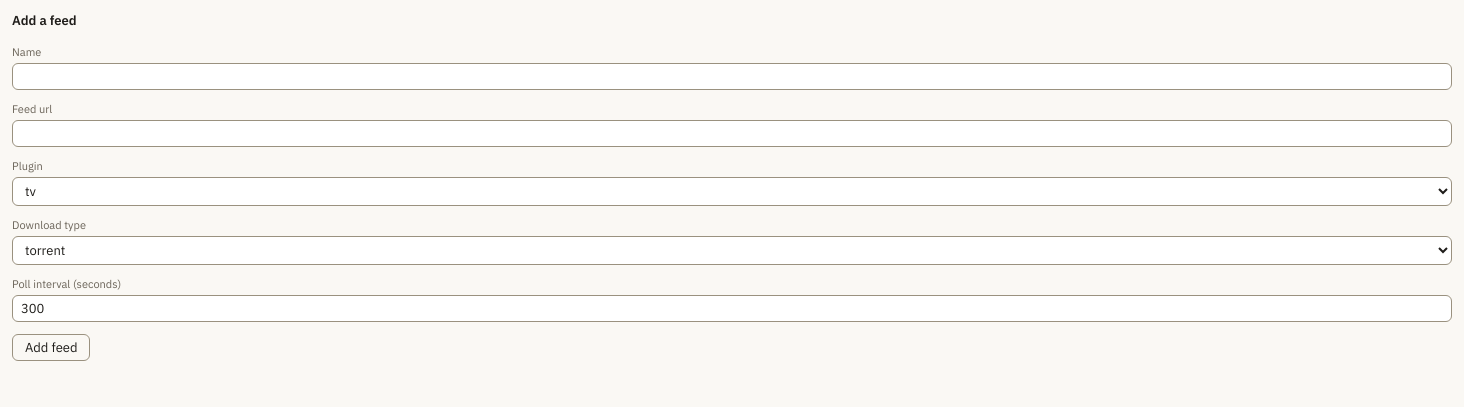
Test case: a refusal leaves what was typed in place
Type "Movies HD" into the field labelled "Name". click: x=732, y=76
box: x1=12 y1=63 x2=1452 y2=90
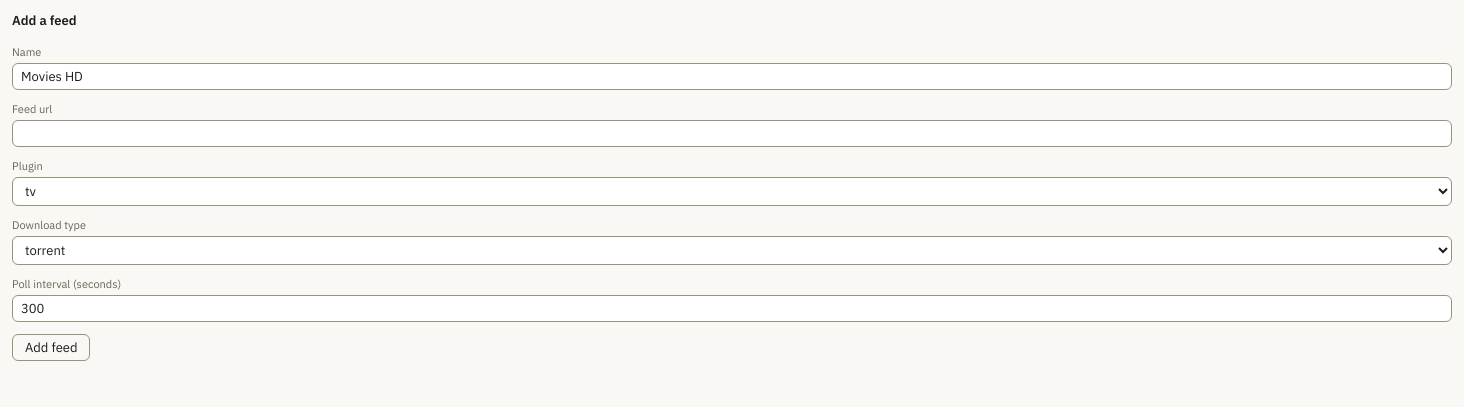
Type "https://tracker.example/rss" into the field labelled "Feed url". click: x=732, y=134
box: x1=12 y1=120 x2=1452 y2=147
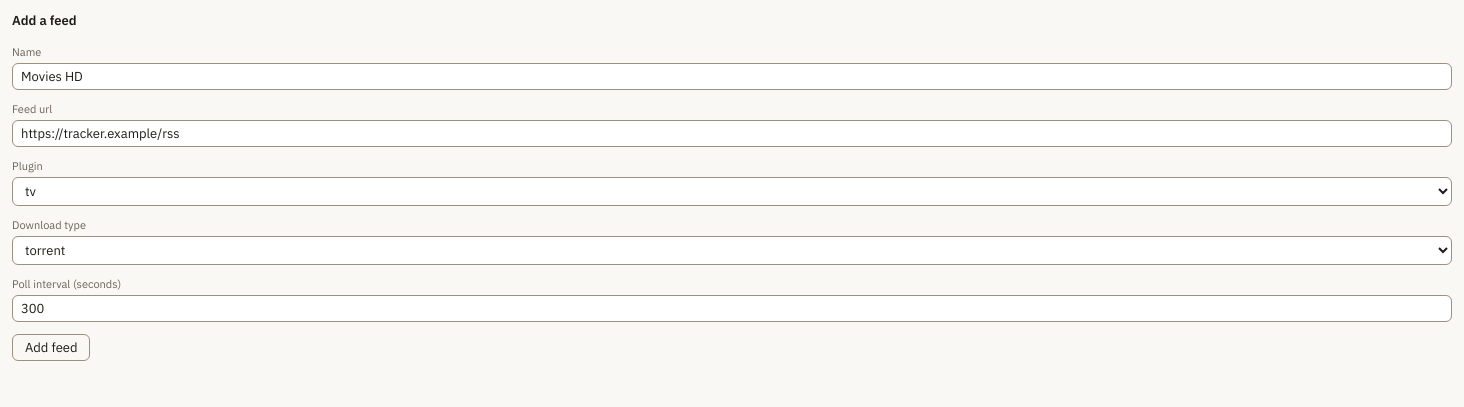
Click the button "Add feed". click: x=51, y=348
box: x1=12 y1=334 x2=90 y2=361
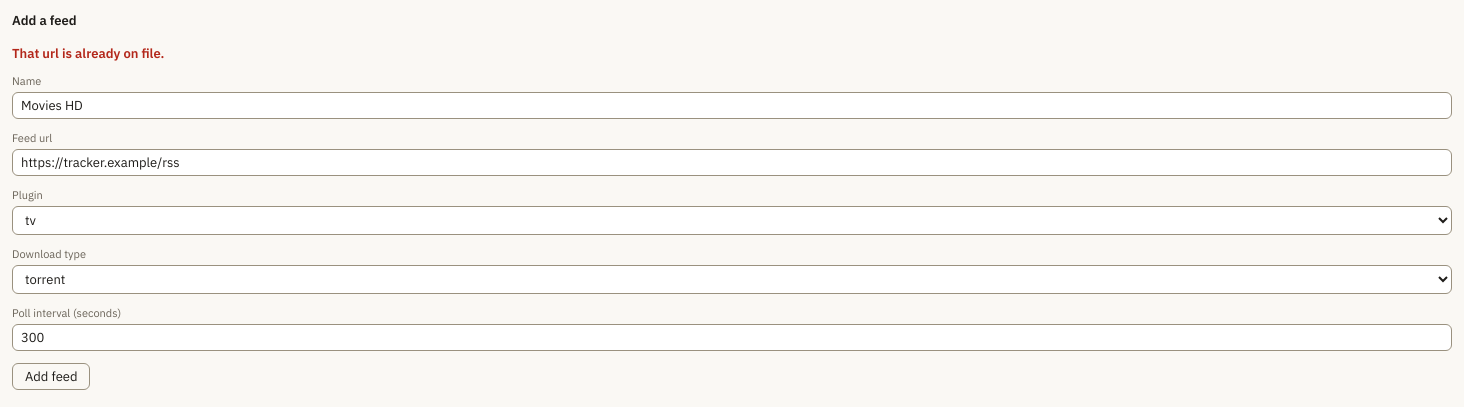
Expected: the message "That url is already on file." is shown, x1=12 y1=45 x2=164 y2=62
